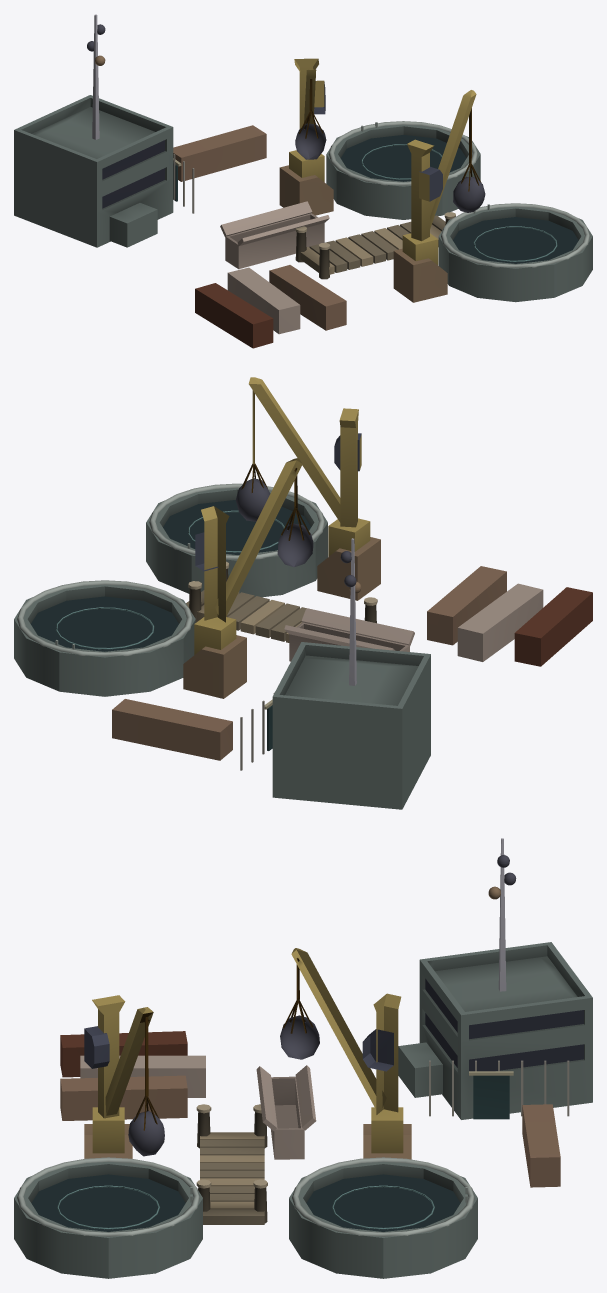
File: fishing-detailed.glb
The picture shows the model from 3 angles, top to bottom: view 1: azimuth 30°, elevation 25°; view 2: azimuth 150°, elevation 25°; view 3: azimuth 270°, elevation 25°; orthographic projection. The views are drawn at different scales.
Bounding box in the file's own units: 1.36 × 0.6684 × 1.43.
